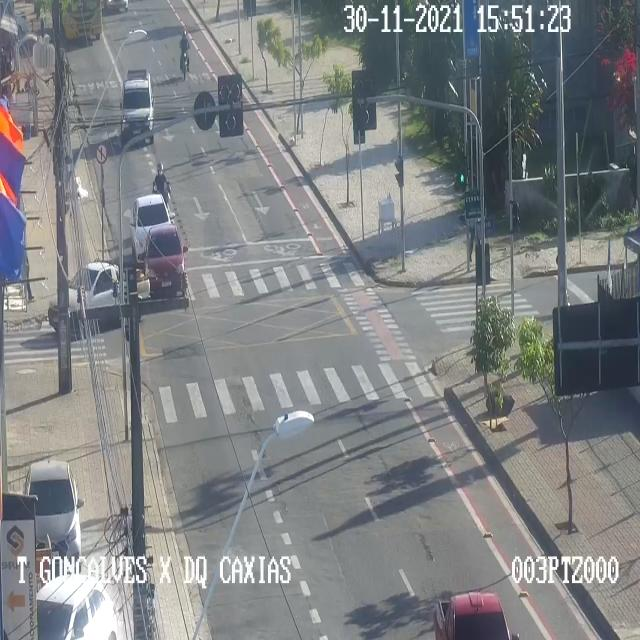Bus: (59, 0, 105, 44)
Car: (48, 260, 150, 336), (24, 460, 80, 570), (36, 574, 116, 639), (434, 591, 510, 639), (144, 224, 185, 296), (130, 193, 170, 262), (120, 68, 154, 142)
Motorcycle: (152, 162, 171, 208), (179, 29, 189, 79)
